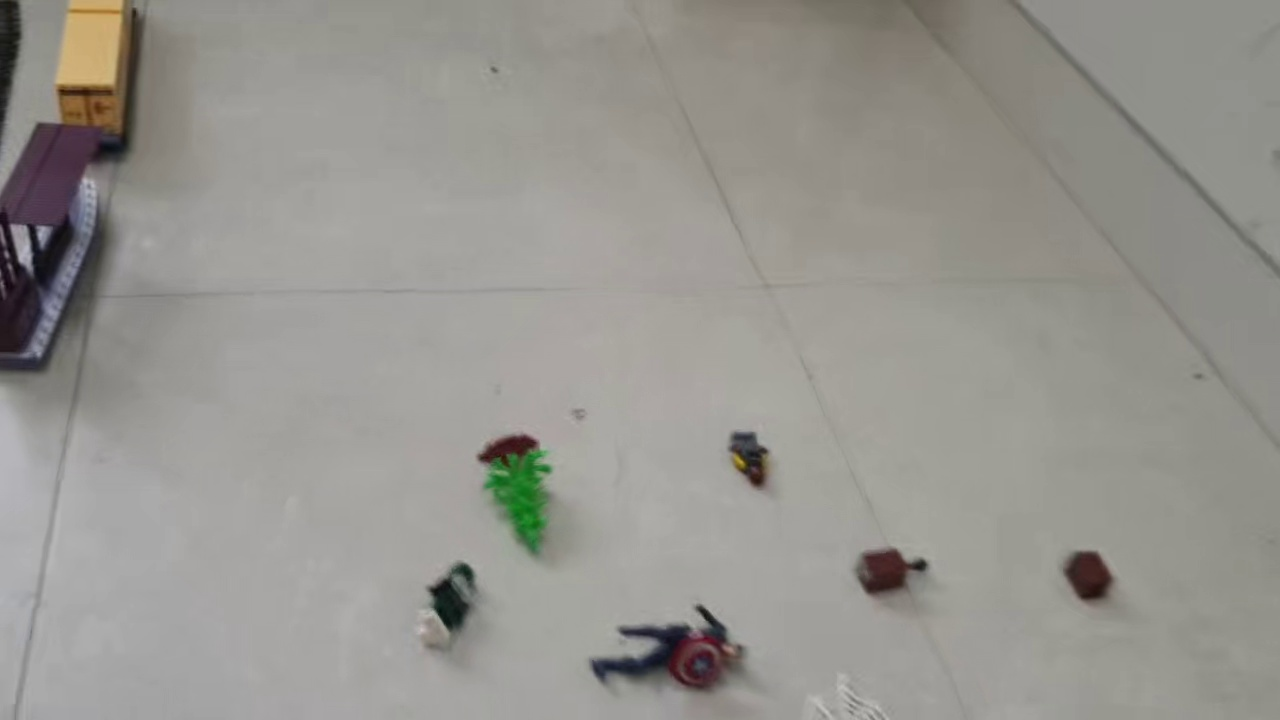box: (853, 543, 929, 599), (1061, 547, 1119, 605)
people: (585, 601, 750, 691), (415, 562, 479, 651), (726, 430, 775, 491)
tree: (477, 433, 561, 563)
web: (793, 669, 892, 720)
